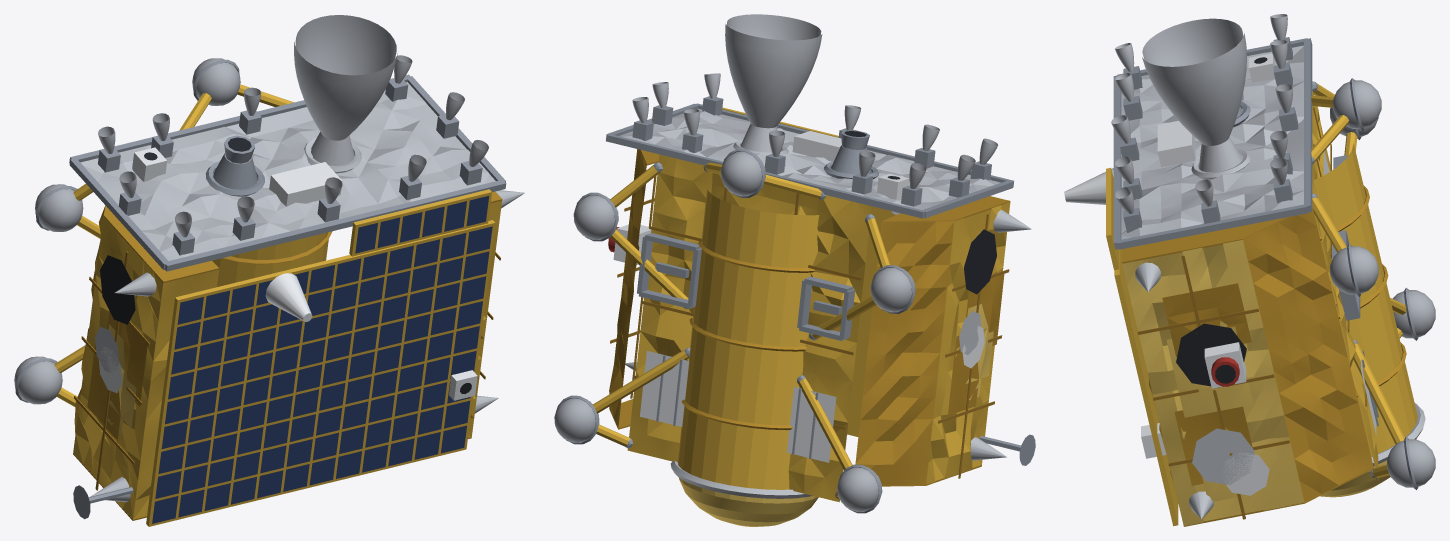
The model's file is slim.glb.
3 views of the same model, side by side, from view 1: azimuth 30°, elevation 25°; view 2: azimuth 150°, elevation 25°; view 3: azimuth 270°, elevation 25° (orthographic). The views are drawn at different scales.
Parts seen in each view (by area): view 1: body, solar-panel, foil; view 2: foil, body; view 3: foil, body.
Part boxes in pixels (x1,y1,x2,y2): body: (14, 15, 524, 526); solar-panel: (152, 196, 492, 523); foil: (69, 74, 506, 520); foil: (606, 103, 1013, 526); body: (554, 14, 1035, 513); foil: (1113, 38, 1417, 526); body: (1064, 14, 1435, 526).
Bounding box in the file's own units: 2.81 × 2.99 × 2.1.
